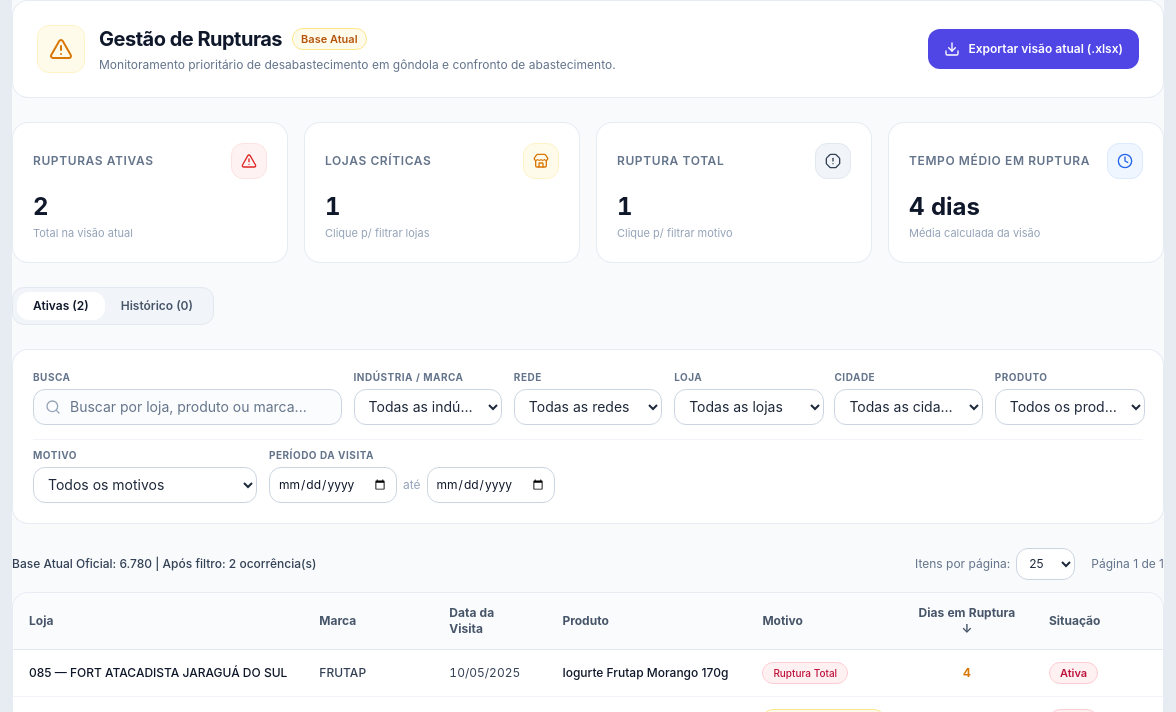
Test: rupturasJourney.test.tsx — Testes Obrigatórios de Interface e Fluxo (i até w) › p) Clicar no KPI Ruptura Total ativa o filtro contextual
The width and height of the screenshot is (1176, 712).
Click the button "Ruptura total 1 Clique p/ filtrar motivo" at (671, 160), box [596, 122, 872, 262]
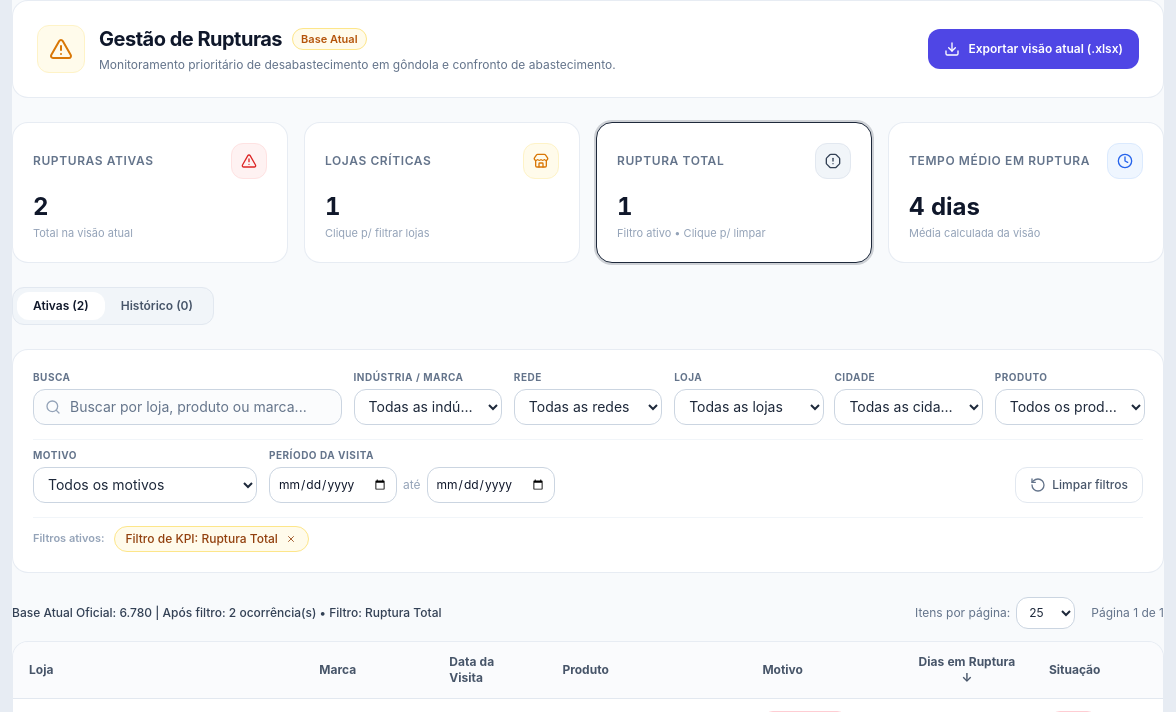
Check: the text "Filtro de KPI: Ruptura Total" is shown, box [126, 530, 278, 546]
